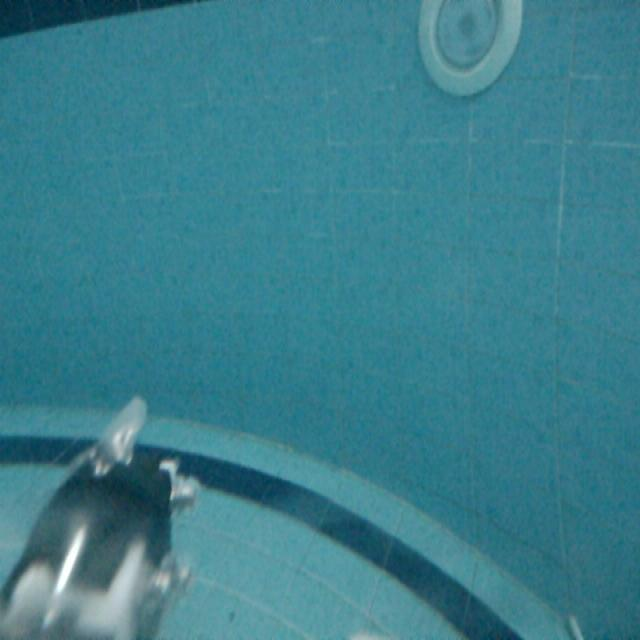Cube: (564, 609, 590, 640)
